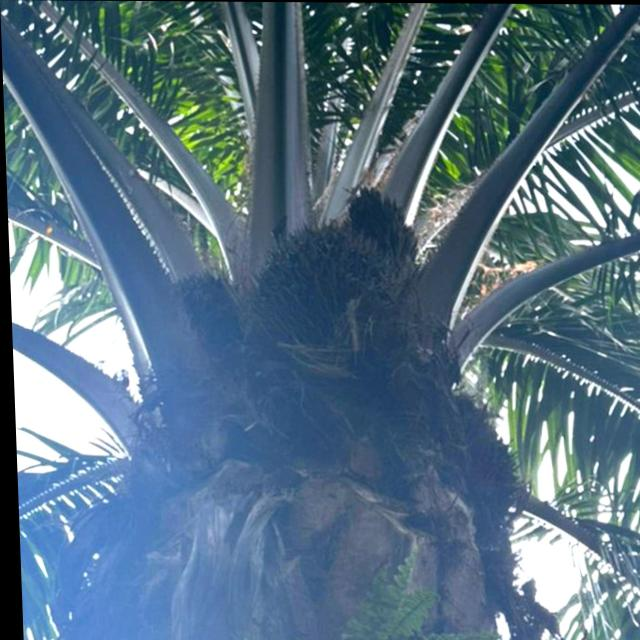almost: (243, 212, 413, 385)
